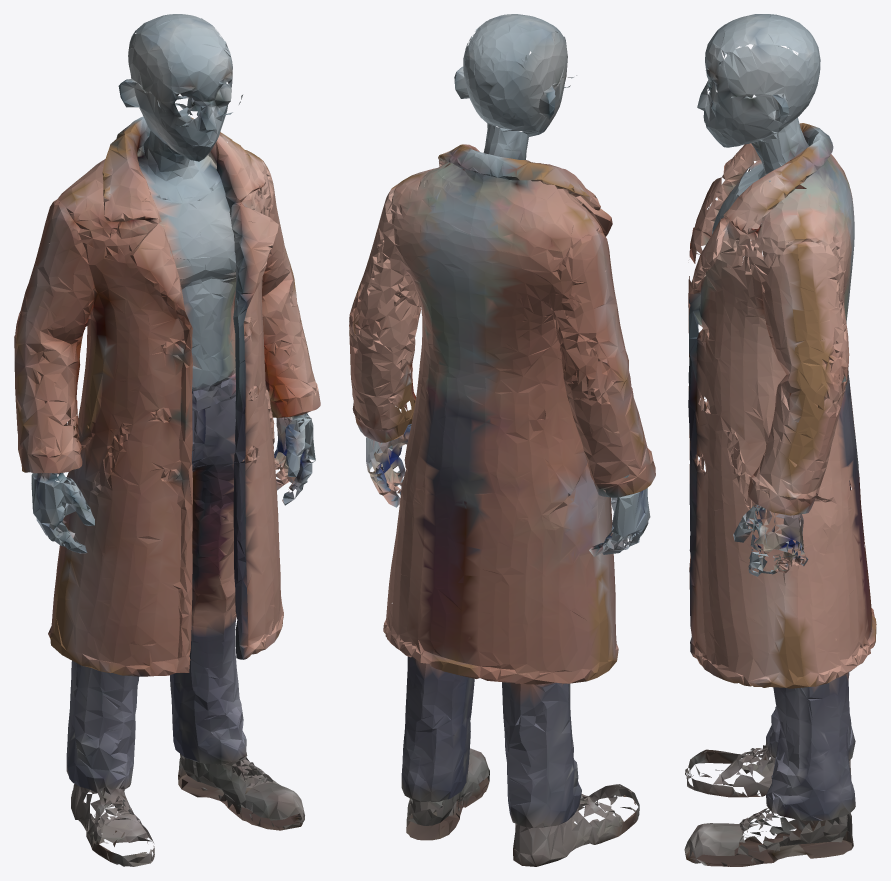
Rendered from claude.glb.
3 views of the same model, side by side, from view 1: azimuth 30°, elevation 25°; view 2: azimuth 150°, elevation 25°; view 3: azimuth 270°, elevation 25° (orthographic).
Bounding box in the file's own units: 0.686 × 1.8 × 0.3912.
